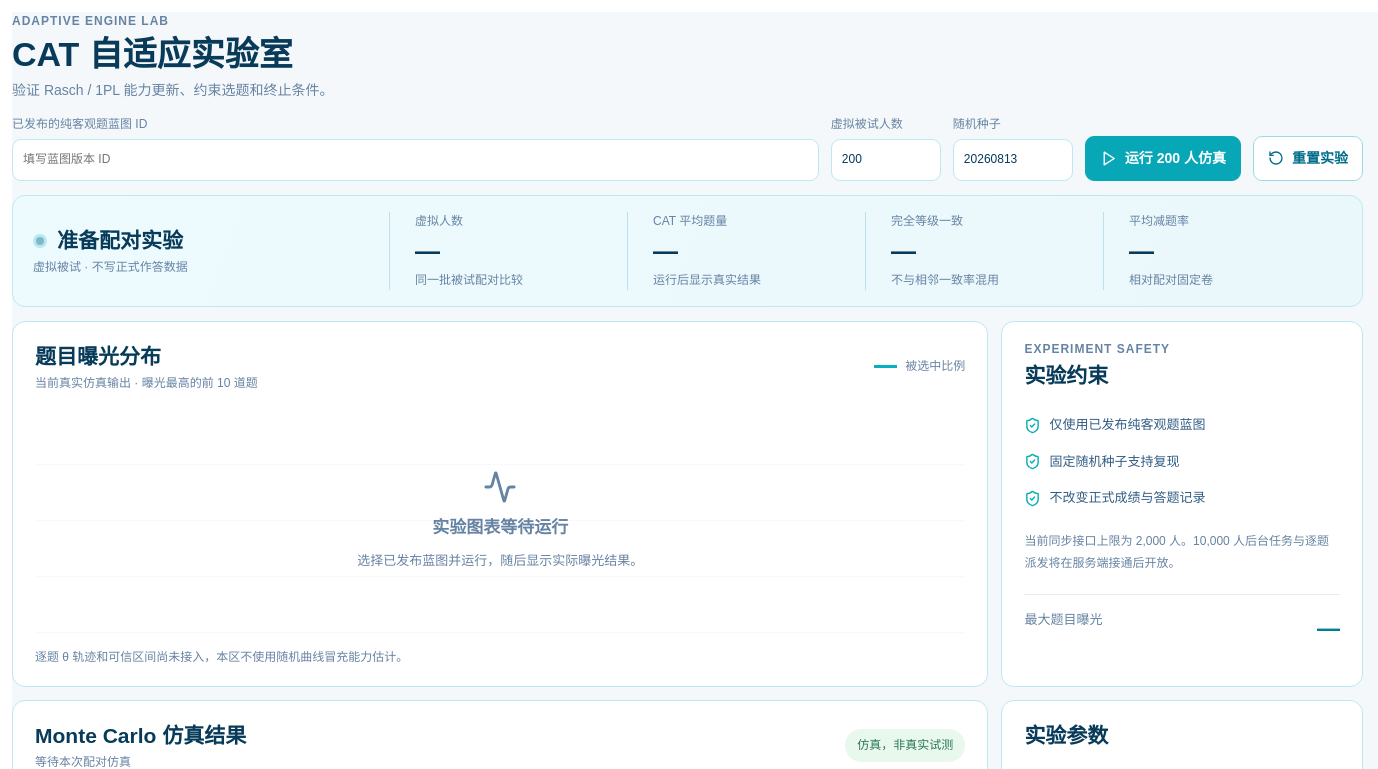
CatLabView › renders paired simulation metrics without conflating agreement types
This screenshot has width=1378, height=769.
Step 1. Type "f9076789-4c7c-4f25-876e-a7c2c151ae10" into the field labelled "已发布的纯客观题蓝图 ID" → [415, 160], box [12,139,819,181]
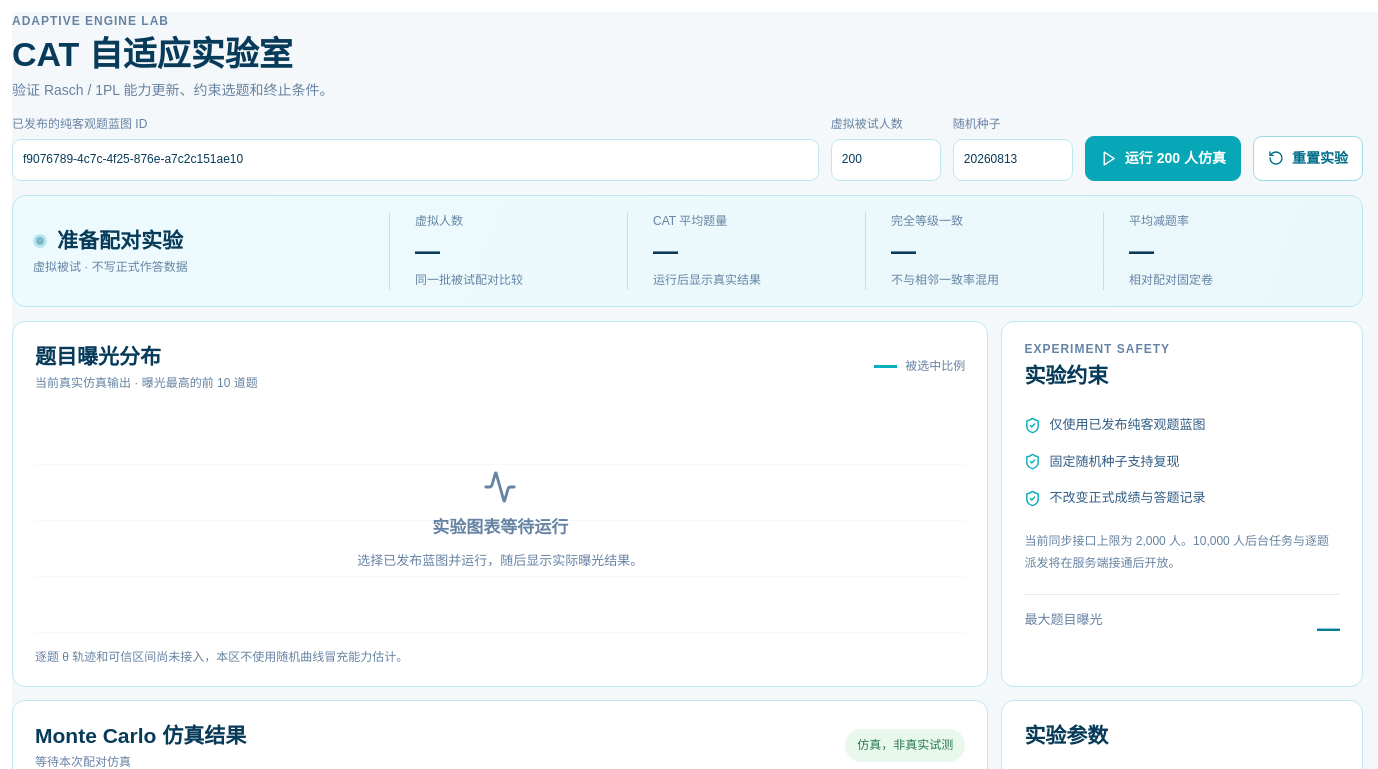
Step 2. Submit the form, box [12,115,1363,181]
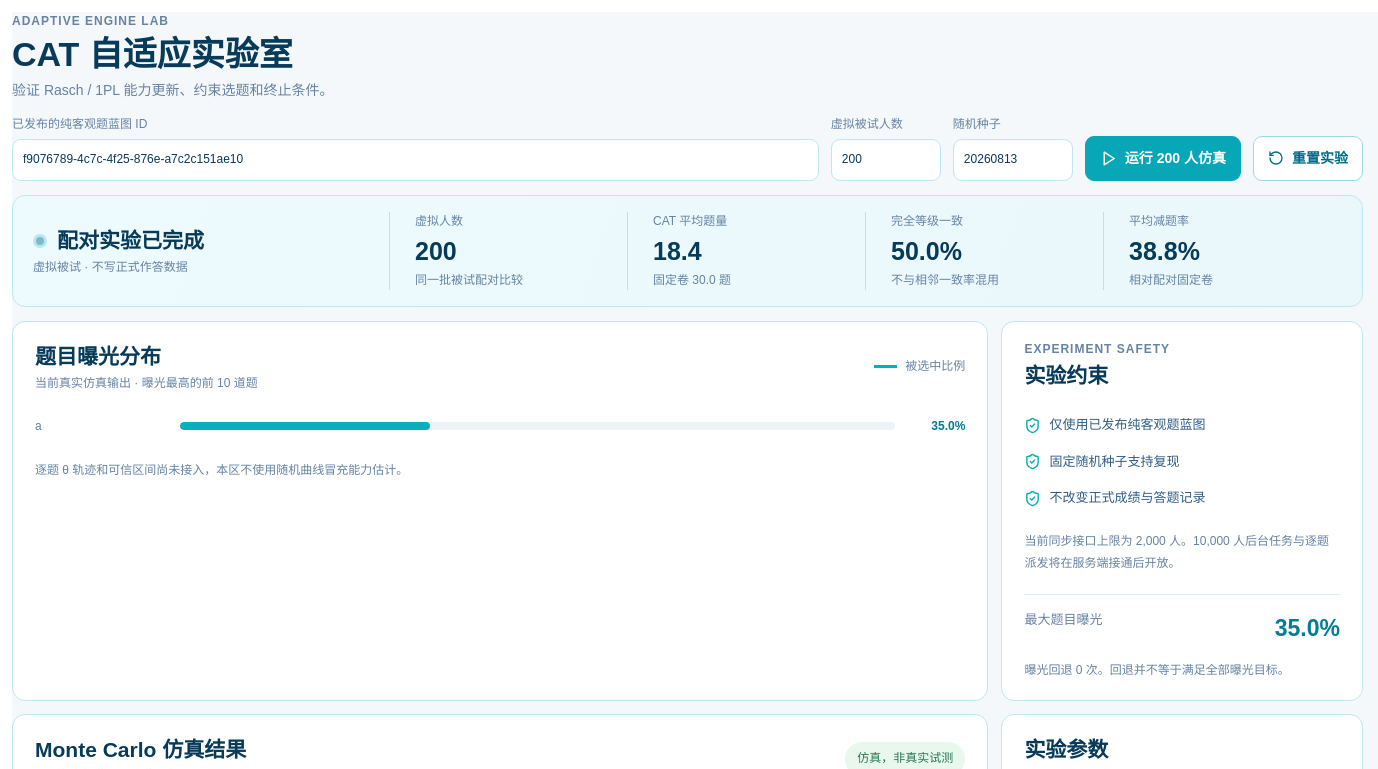
expect the text "完全等级一致" is shown: met, box [891,214,963,228]
expect the text "38.8%" is shown: met, box [1129,237,1200,265]
expect the text "50.0%" is shown: met, box [891,237,962,265]
